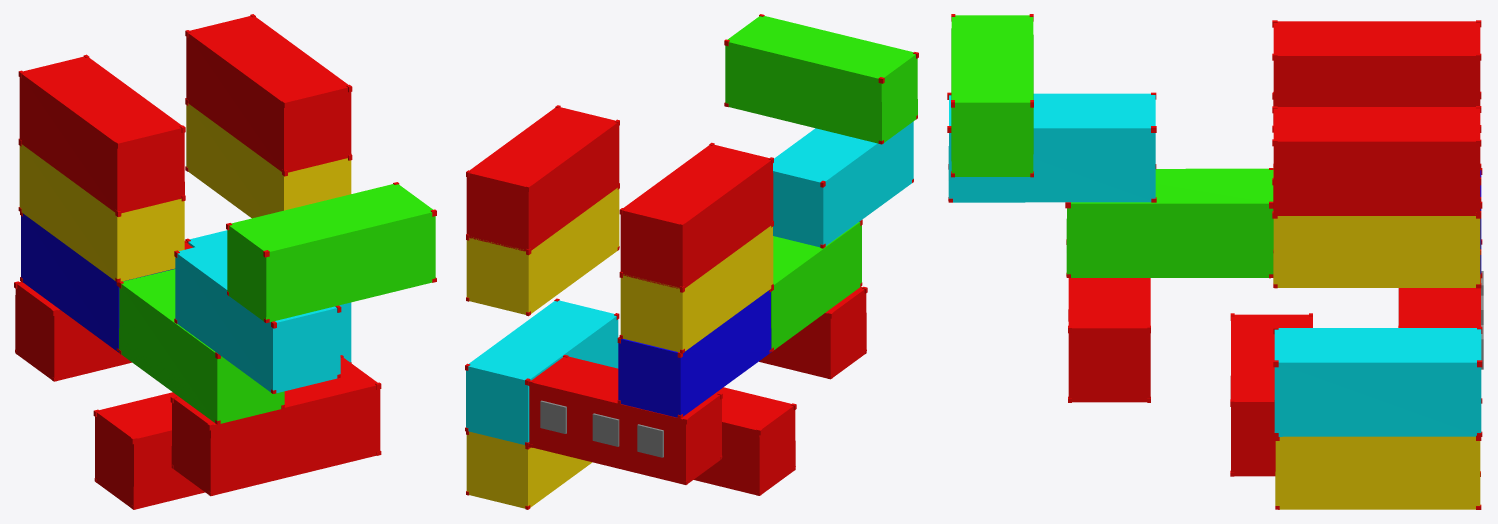
File: ParentPart24FBX.FBX
3 renders of one model, left to right at view 1: azimuth 30°, elevation 25°; view 2: azimuth 150°, elevation 25°; view 3: azimuth 270°, elevation 25°, orthographic. The views are drawn at different scales.
Visible parts, largest first — view 1: ParentPart24; view 2: ParentPart24; view 3: ParentPart24.
Boxes of the visible parts, left/top/right/bottom form: ParentPart24: left=14, top=14, right=436, bottom=509; ParentPart24: left=465, top=14, right=918, bottom=509; ParentPart24: left=947, top=14, right=1483, bottom=509.
Size of the model in its own units: 2.9 by 5.32 by 4.1.
